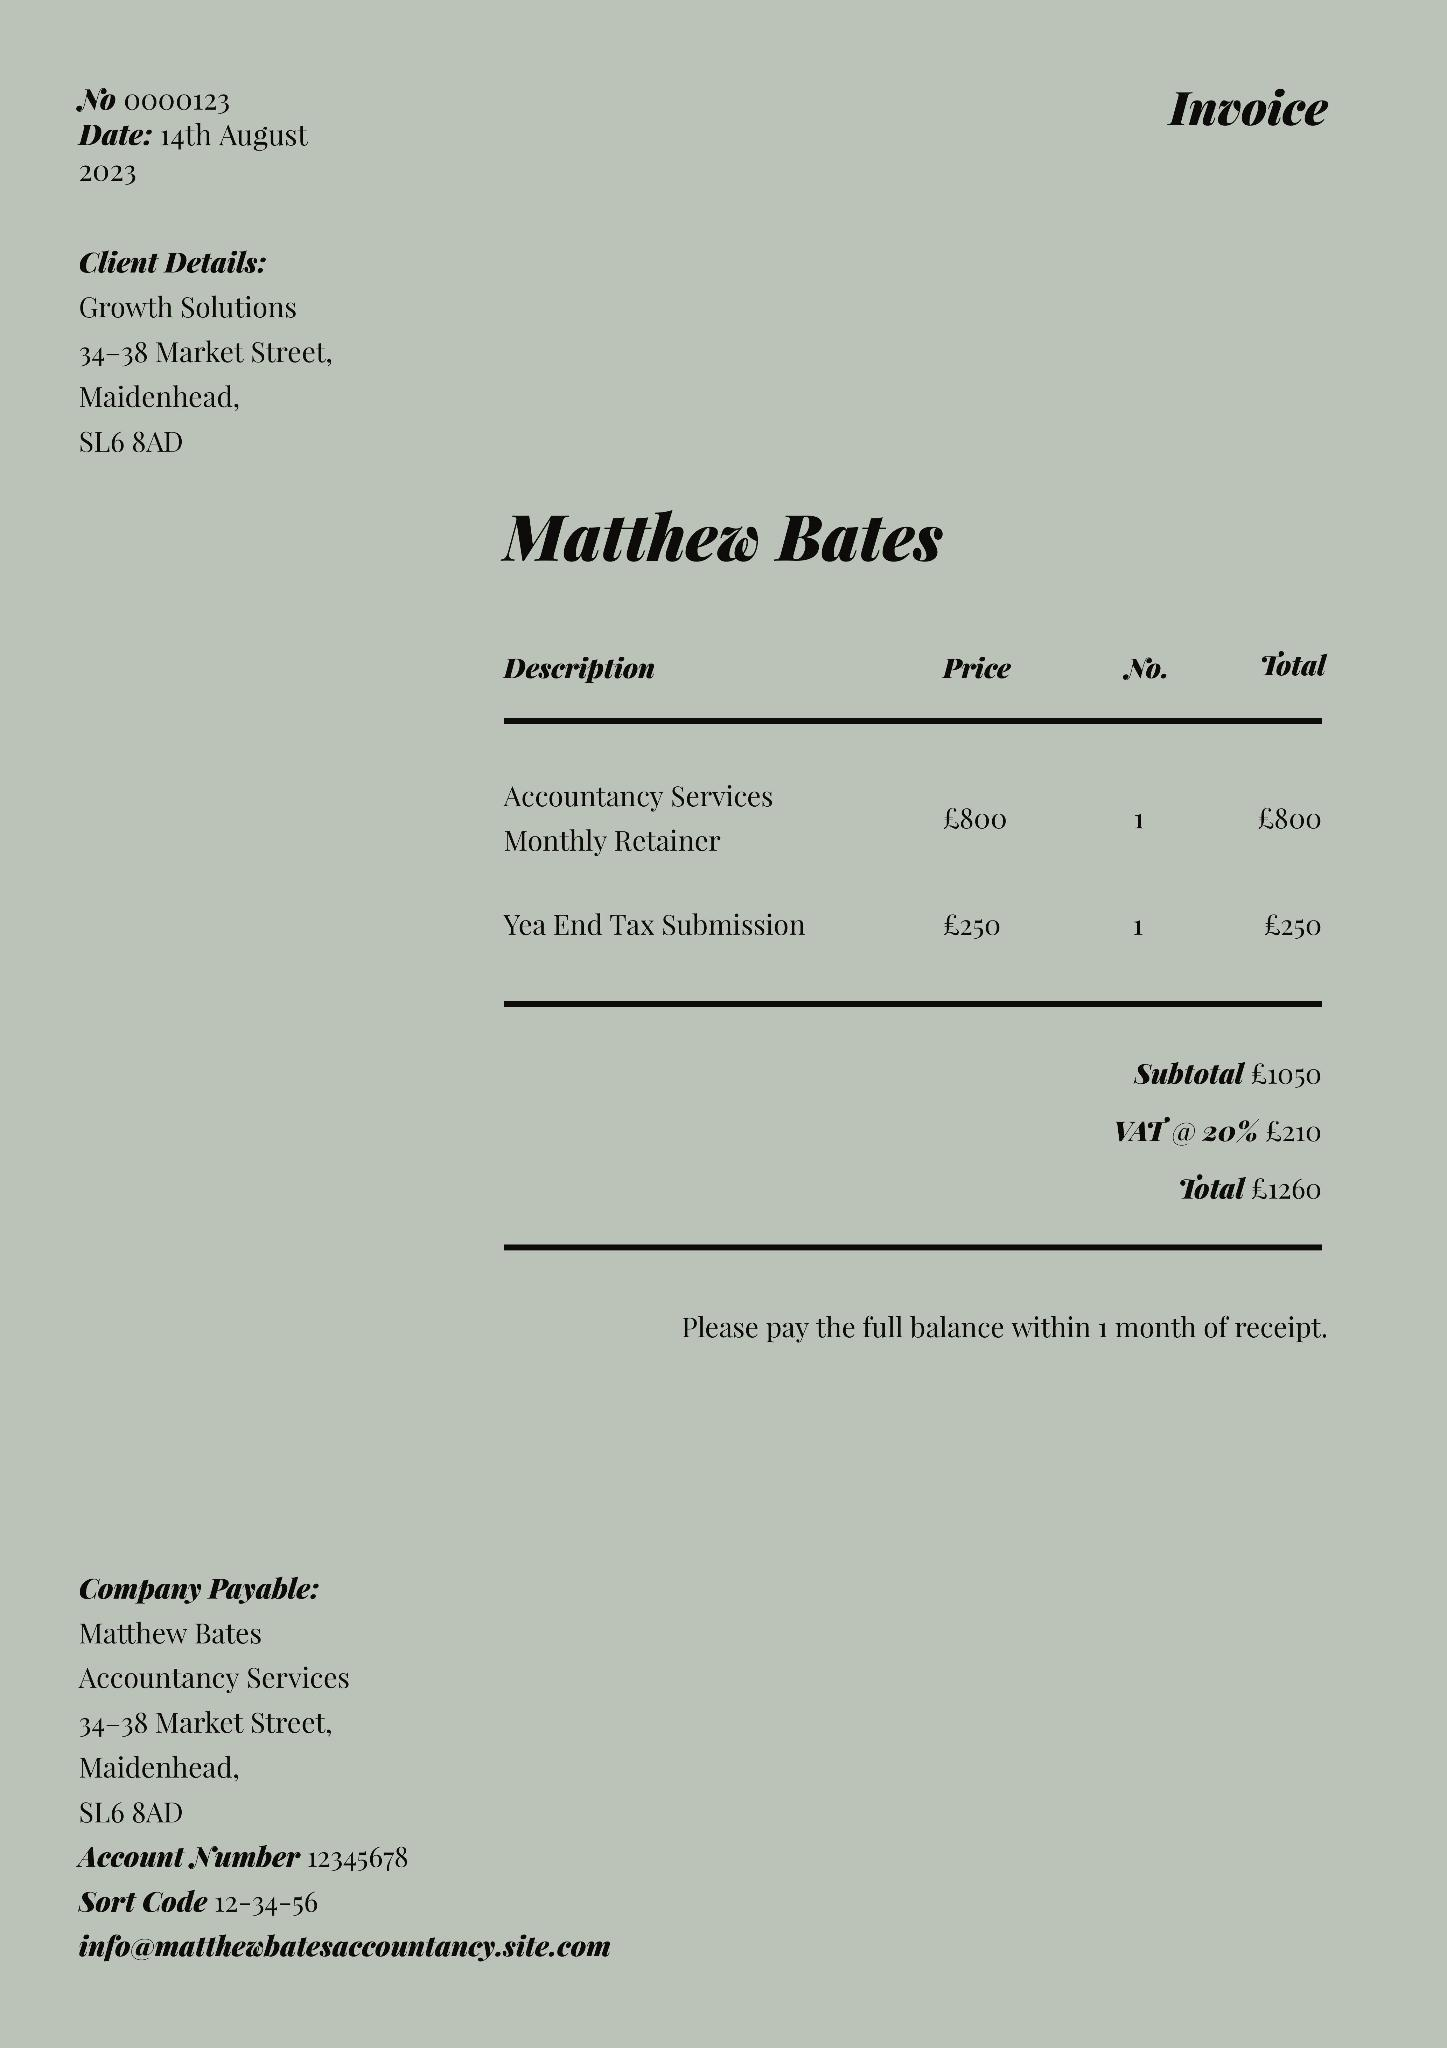ROI: (472, 647, 1350, 959), (76, 1839, 624, 1980), (76, 1579, 366, 1825), (66, 251, 352, 479), (1107, 1036, 1336, 1218), (679, 1307, 1337, 1367), (504, 515, 964, 588), (72, 88, 331, 217), (1143, 69, 1366, 155)
